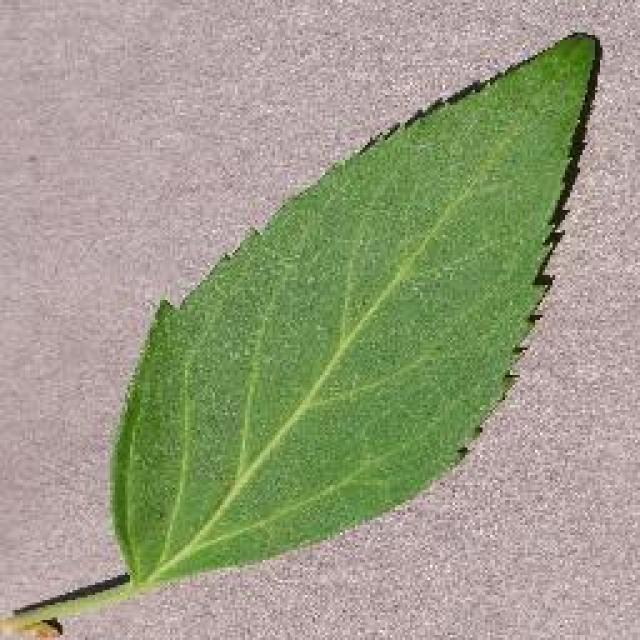Cherry___healthy: (5, 23, 607, 635)
